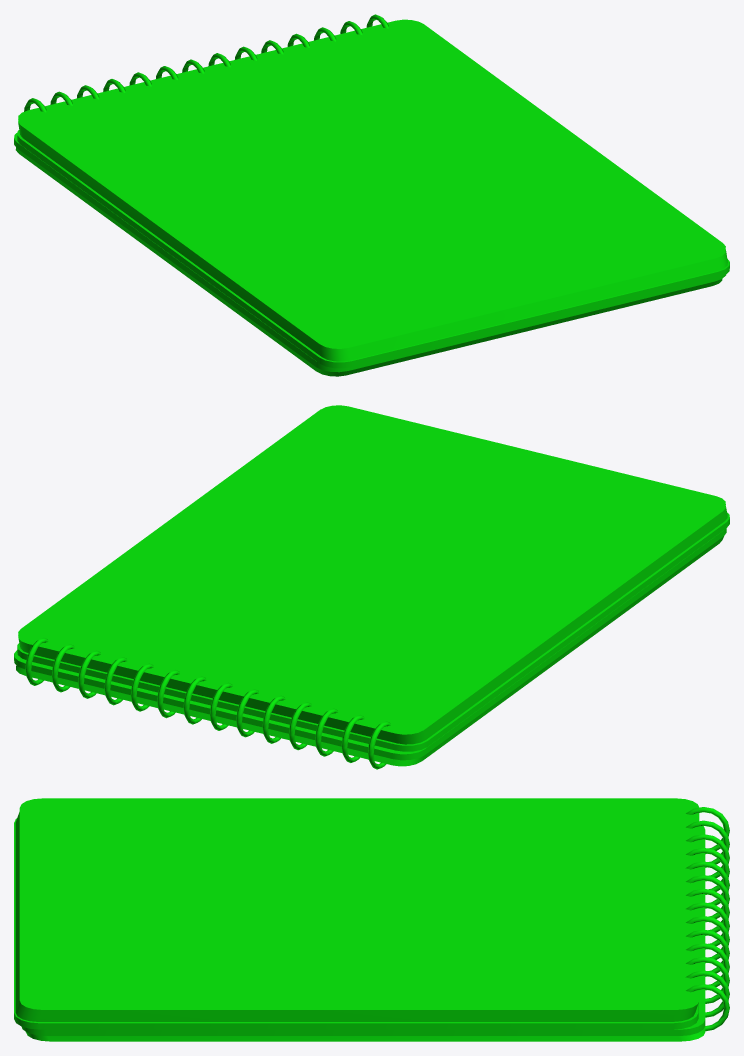
Rendered from Notebook.fbx.
The picture shows the model from 3 angles, top to bottom: view 1: azimuth 30°, elevation 25°; view 2: azimuth 150°, elevation 25°; view 3: azimuth 270°, elevation 25°; orthographic projection. The views are drawn at different scales.
Parts seen in each view (by area): view 1: Notebook_Peaper, Notebook_Base; view 2: Notebook_Peaper, Notebook_Base; view 3: Notebook_Peaper, Notebook_Base.
Boxes of the visible parts, x1,y1,x2,y2 form: Notebook_Peaper: (18,19,725,345); Notebook_Base: (14,14,729,376); Notebook_Peaper: (18,405,725,731); Notebook_Base: (14,505,729,769); Notebook_Peaper: (19,798,699,1006); Notebook_Base: (14,807,729,1041).
Bounding box in the file's own units: 21.87 × 2.31 × 31.38.
